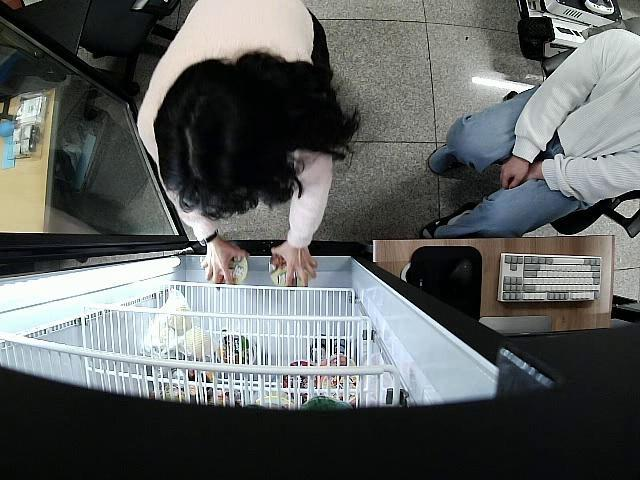03_chapagetti_L: (268, 254, 308, 288), (220, 252, 249, 285)
